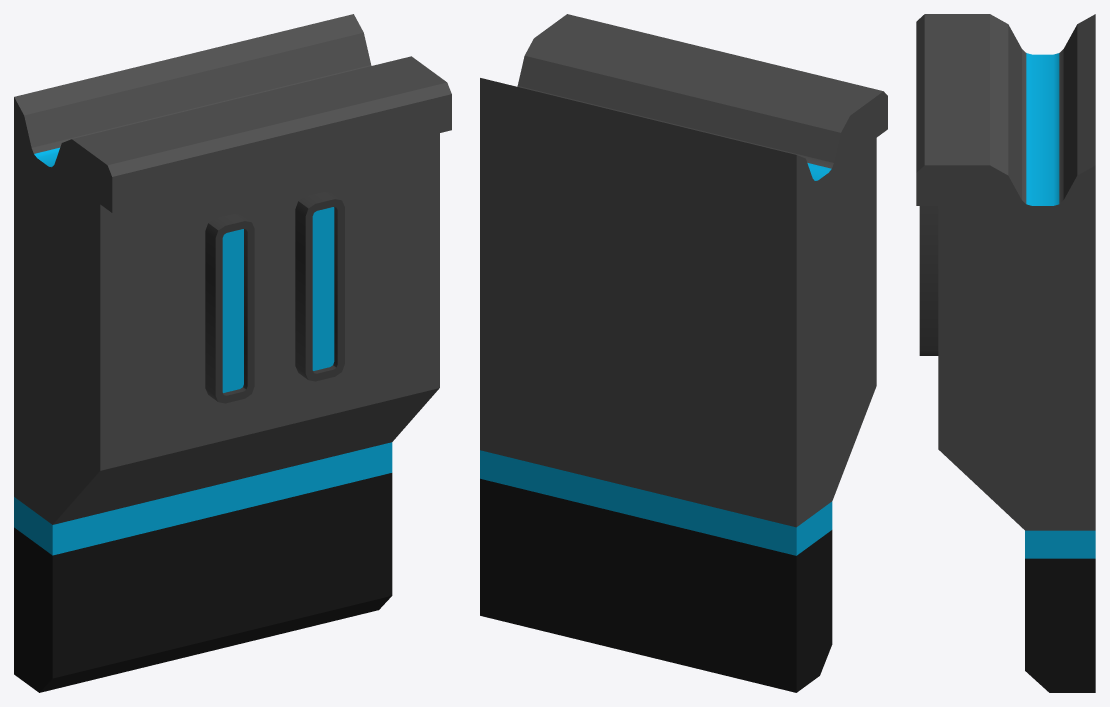
The model's file is Floor_Edge_01x2B.fbx.
3 views of the same model, side by side, from view 1: azimuth 30°, elevation 25°; view 2: azimuth 150°, elevation 25°; view 3: azimuth 270°, elevation 25° (orthographic). The views are drawn at different scales.
Parts seen in each view (by area): view 1: Floor_Edge_01x2B; view 2: Floor_Edge_01x2B; view 3: Floor_Edge_01x2B.
Part boxes in pixels (left/top/right/bottom): Floor_Edge_01x2B: left=14, top=14, right=451, bottom=692; Floor_Edge_01x2B: left=480, top=14, right=887, bottom=692; Floor_Edge_01x2B: left=916, top=14, right=1095, bottom=692.
Size of the model in its own units: 400 by 650 by 200.
